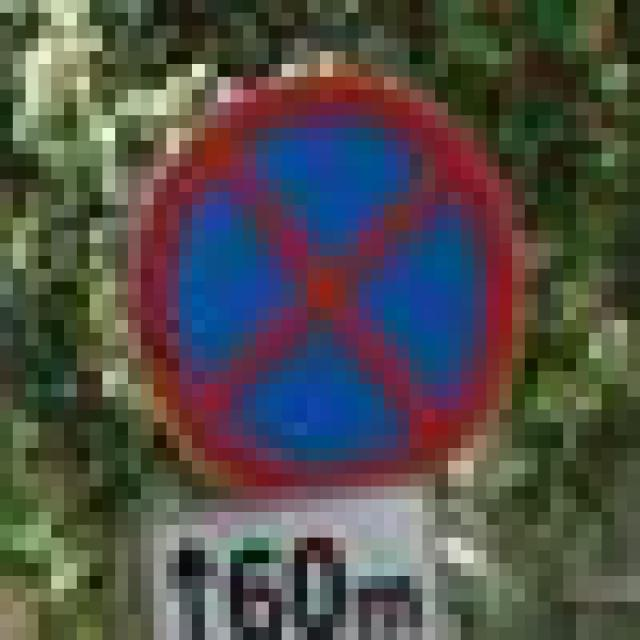no_parking: (128, 64, 512, 474)
